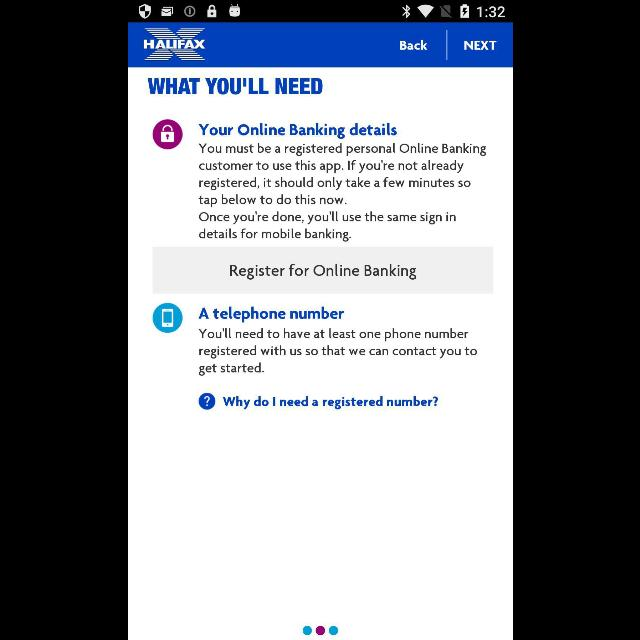icon: (152, 119, 182, 149), (198, 392, 215, 410)
image: (140, 27, 206, 61), (152, 303, 182, 333)
pageindicator: (302, 625, 338, 635)
text: (198, 142, 486, 242), (198, 328, 476, 376), (198, 123, 398, 139), (148, 78, 322, 95), (222, 396, 438, 409), (198, 306, 342, 322), (464, 41, 496, 51), (399, 40, 427, 50)
textbutton: (152, 246, 492, 294)
toolbar: (128, 23, 512, 67)
uppertaskbar: (128, 1, 512, 23)
